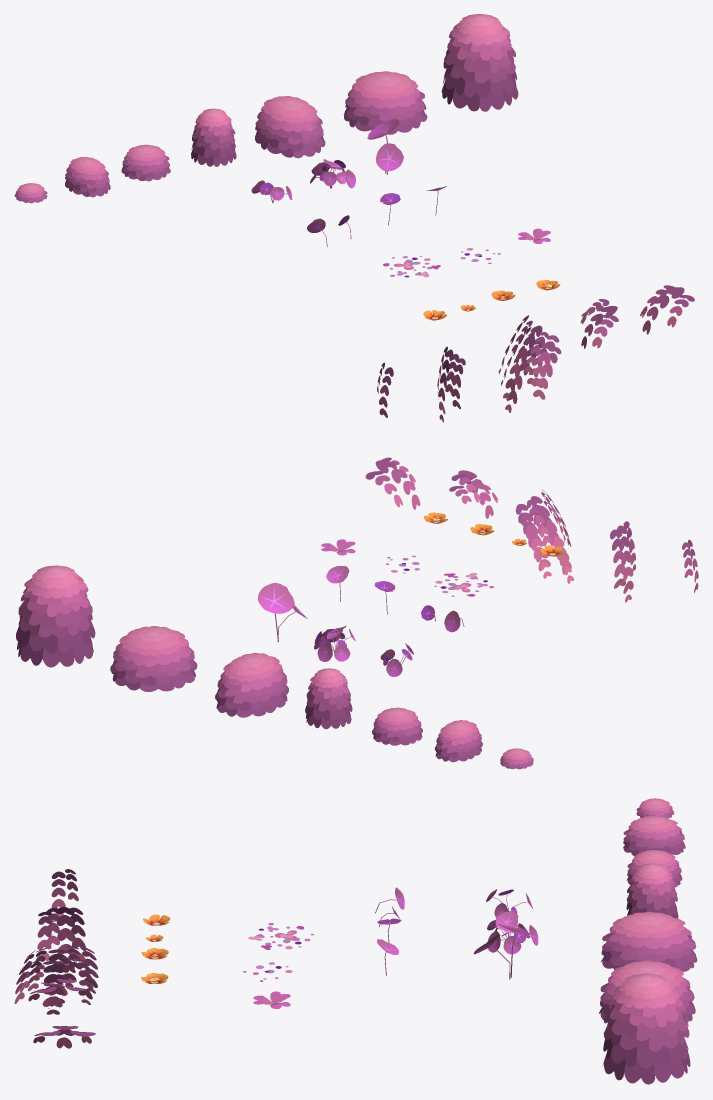
Rendered from SM_Foliage.fbx.
The picture shows the model from 3 angles, top to bottom: view 1: azimuth 30°, elevation 25°; view 2: azimuth 150°, elevation 25°; view 3: azimuth 270°, elevation 25°; orthographic projection. The views are drawn at different scales.
Parts seen in each view (by area): view 1: SM_Bush_Big_High, SM_Bush_Big, SM_Bush_Big_Wide, SM_Plants_Drooping_Big, SM_Bush_Medium_High, SM_Bush_Medium_Wide, SM_Bush_Medium, SM_Plants_Drooping_Curved_Small, SM_Plants_PileaBush_Big, SM_Plants_Drooping_Medium, SM_Plants_Drooping_Curved_Medium, SM_Plants_PileaBush_Medium; view 2: SM_Bush_Big_High, SM_Bush_Big, SM_Bush_Big_Wide, SM_Plants_Drooping_Big, SM_Bush_Medium_High, SM_Bush_Medium_Wide, SM_Bush_Medium, SM_Plants_Drooping_Medium, SM_Plants_Drooping_Curved_Small, SM_Plants_PileaBush_Big, SM_Plants_PileaBush_Medium, SM_Plants_Drooping_Curved_Medium (+2 smaller); view 3: SM_Bush_Big_High, SM_Bush_Big_Wide, SM_Plants_Drooping_Big, SM_Bush_Medium_High, SM_Bush_Big, SM_Bush_Medium_Wide, SM_Plants_Drooping_Medium, SM_Plants_PileaBush_Medium, SM_Bush_Medium, SM_Plants_Drooping_Small, SM_Plants_Drooping_Curved_Small, SM_Plants_Drooping_Curved_Medium (+2 smaller).
Boxes of the visible parts, x1,y1,x2,y2 form: SM_Bush_Big_High: (441,14,518,111); SM_Bush_Big: (343,71,427,134); SM_Bush_Big_Wide: (255,96,325,158); SM_Plants_Drooping_Big: (498,315,561,412); SM_Bush_Medium_High: (191,108,236,166); SM_Bush_Medium_Wide: (65,157,110,197); SM_Bush_Medium: (121,144,170,181); SM_Plants_Drooping_Curved_Small: (640,285,694,334); SM_Plants_PileaBush_Big: (367,119,403,174); SM_Plants_Drooping_Medium: (437,346,465,422); SM_Plants_Drooping_Curved_Medium: (580,299,618,348); SM_Plants_PileaBush_Medium: (310,159,355,188); SM_Bush_Big_High: (16,565,95,667); SM_Bush_Big: (110,626,197,691); SM_Bush_Big_Wide: (215,652,288,717); SM_Plants_Drooping_Big: (515,489,574,583); SM_Bush_Medium_High: (305,668,352,729); SM_Bush_Medium_Wide: (434,720,482,762); SM_Bush_Medium: (372,707,422,745); SM_Plants_Drooping_Medium: (610,521,635,602); SM_Plants_Drooping_Curved_Small: (365,457,420,509); SM_Plants_PileaBush_Big: (257,582,307,641); SM_Plants_PileaBush_Medium: (314,625,355,661); SM_Plants_Drooping_Curved_Medium: (449,470,498,518); SM_Bush_Big_High: (602,973,690,1084); SM_Bush_Big_Wide: (601,912,697,971); SM_Plants_Drooping_Big: (14,946,98,1014); SM_Bush_Medium_High: (626,863,678,918); SM_Bush_Big: (599,960,695,1022); SM_Bush_Medium_Wide: (623,816,685,855); SM_Plants_Drooping_Medium: (36,907,85,979); SM_Plants_PileaBush_Medium: (487,911,538,954); SM_Bush_Medium: (626,850,682,887); SM_Plants_Drooping_Small: (51,869,78,921); SM_Plants_Drooping_Curved_Small: (33,1026,95,1048); SM_Plants_Drooping_Curved_Medium: (28,979,85,1007).
Bounding box in the file's own units: 49.37 × 14.26 × 52.11.
